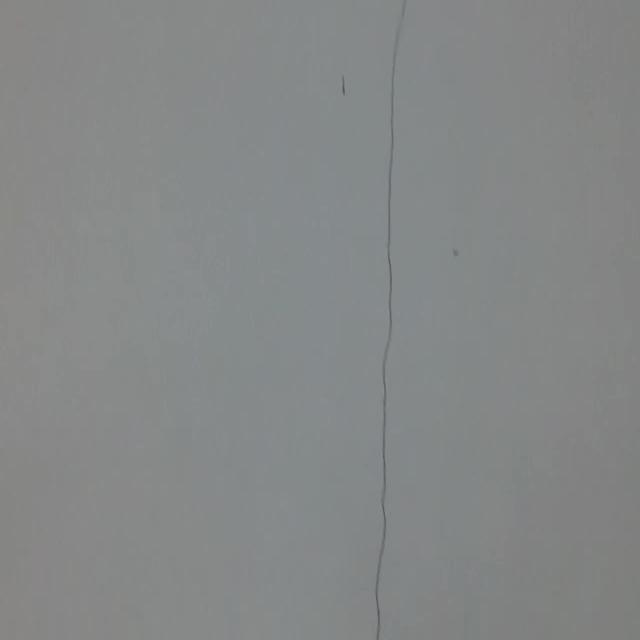Crack: (362, 0, 420, 640)
